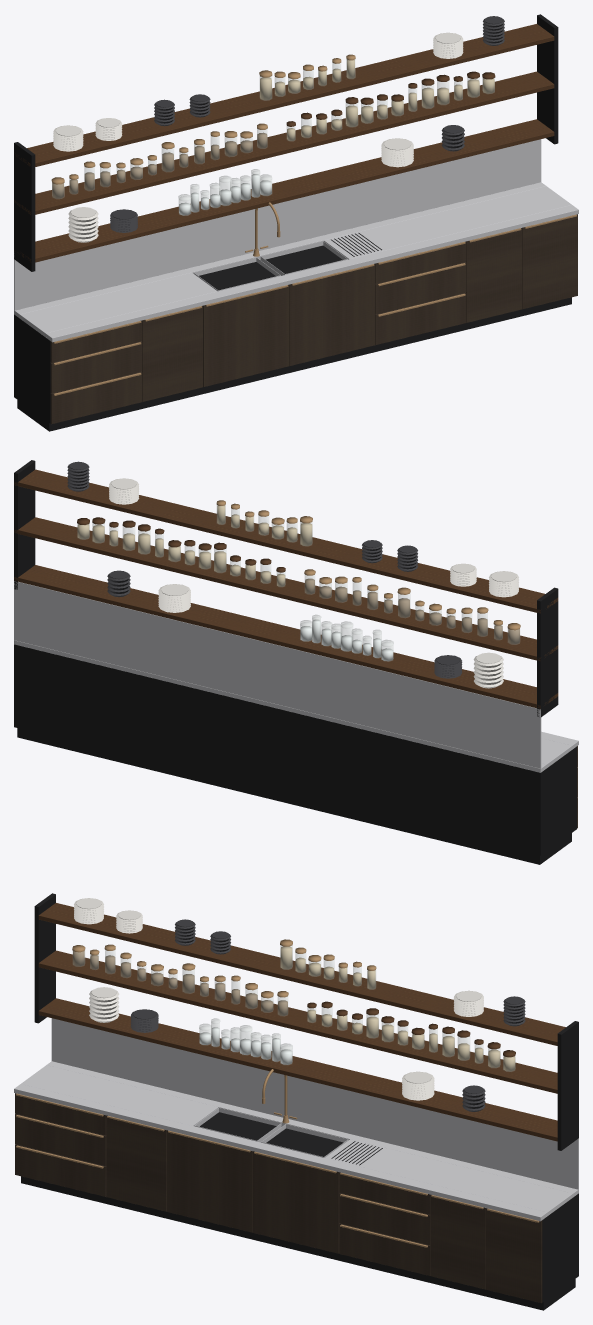
Rendered from kitchen_scullery_run.gltf.
3 renders of one model, top to bottom at view 1: azimuth 30°, elevation 25°; view 2: azimuth 150°, elevation 25°; view 3: azimuth 330°, elevation 25°, orthographic.
Parts seen in each view (by area): view 1: KitchenScullery_Splashback, KitchenScullery_Shelf0, KitchenScullery_Shelf2, KitchenScullery_Shelf1, KitchenScullery_Base2_DoorL, KitchenScullery_Base2_DoorR, KitchenScullery_Top_Front, KitchenScullery_Top_East, KitchenScullery_Body, KitchenScullery_Base1_Drawer0, KitchenScullery_Base4_DoorL, KitchenScullery_Top_West (+30 smaller); view 2: KitchenScullery_Body, KitchenScullery_Splashback, KitchenScullery_Shelf0, KitchenScullery_Shelf2, KitchenScullery_Shelf1, KitchenScullery_Plinth, KitchenScullery_JarsMid2Glass, KitchenScullery_JarsMidGlass, KitchenScullery_Top_Back, KitchenScullery_Upright0, KitchenScullery_JarsMid2Fill, KitchenScullery_JarsMidFill (+17 smaller); view 3: KitchenScullery_Splashback, KitchenScullery_Shelf0, KitchenScullery_Shelf2, KitchenScullery_Shelf1, KitchenScullery_Base2_DoorR, KitchenScullery_Base2_DoorL, KitchenScullery_Top_Front, KitchenScullery_Top_East, KitchenScullery_Body, KitchenScullery_Base1_Drawer0, KitchenScullery_Base4_DoorR, KitchenScullery_Base4_DoorL (+30 smaller).
Part boxes in pixels (x1,y1,x2,y2): KitchenScullery_Splashback: (14, 139, 541, 310); KitchenScullery_Shelf0: (14, 119, 554, 262); KitchenScullery_Shelf2: (14, 24, 554, 166); KitchenScullery_Shelf1: (14, 71, 554, 214); KitchenScullery_Base2_DoorL: (203, 284, 289, 386); KitchenScullery_Base2_DoorR: (289, 263, 375, 365); KitchenScullery_Top_Front: (45, 205, 578, 342); KitchenScullery_Top_East: (324, 186, 571, 259); KitchenScullery_Body: (14, 245, 342, 423); KitchenScullery_Base1_Drawer0: (142, 305, 202, 401); KitchenScullery_Base4_DoorL: (466, 228, 522, 322); KitchenScullery_Top_West: (20, 272, 217, 336); KitchenScullery_Body: (14, 644, 576, 855); KitchenScullery_Splashback: (14, 581, 541, 768); KitchenScullery_Shelf0: (14, 565, 558, 708); KitchenScullery_Shelf2: (14, 469, 558, 613); KitchenScullery_Shelf1: (14, 517, 558, 660); KitchenScullery_Plinth: (17, 728, 571, 864); KitchenScullery_JarsMid2Glass: (77, 523, 285, 586); KitchenScullery_JarsMidGlass: (305, 575, 519, 644); KitchenScullery_Top_Back: (14, 640, 546, 772); KitchenScullery_Upright0: (537, 587, 558, 717); KitchenScullery_JarsMid2Fill: (77, 524, 285, 586); KitchenScullery_JarsMidFill: (305, 578, 519, 644); KitchenScullery_Splashback: (51, 1018, 578, 1189); KitchenScullery_Shelf0: (38, 998, 557, 1141); KitchenScullery_Shelf2: (38, 903, 565, 1045); KitchenScullery_Shelf1: (38, 950, 557, 1093); KitchenScullery_Base2_DoorR: (253, 1151, 339, 1253); KitchenScullery_Base2_DoorL: (167, 1130, 252, 1232); KitchenScullery_Top_Front: (14, 1084, 547, 1221); KitchenScullery_Top_East: (325, 1139, 572, 1215); KitchenScullery_Body: (200, 1112, 578, 1302); KitchenScullery_Base1_Drawer0: (106, 1115, 166, 1211); KitchenScullery_Base4_DoorR: (486, 1208, 542, 1303); KitchenScullery_Base4_DoorL: (430, 1194, 485, 1289).
Bounding box in the file's own units: 5.2 × 2.66 × 0.658.
13 materials, 2 textured.
